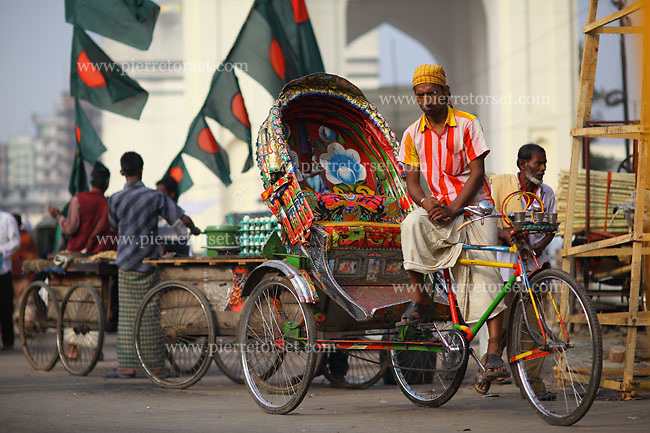Rickshaw: (249, 79, 606, 415)
